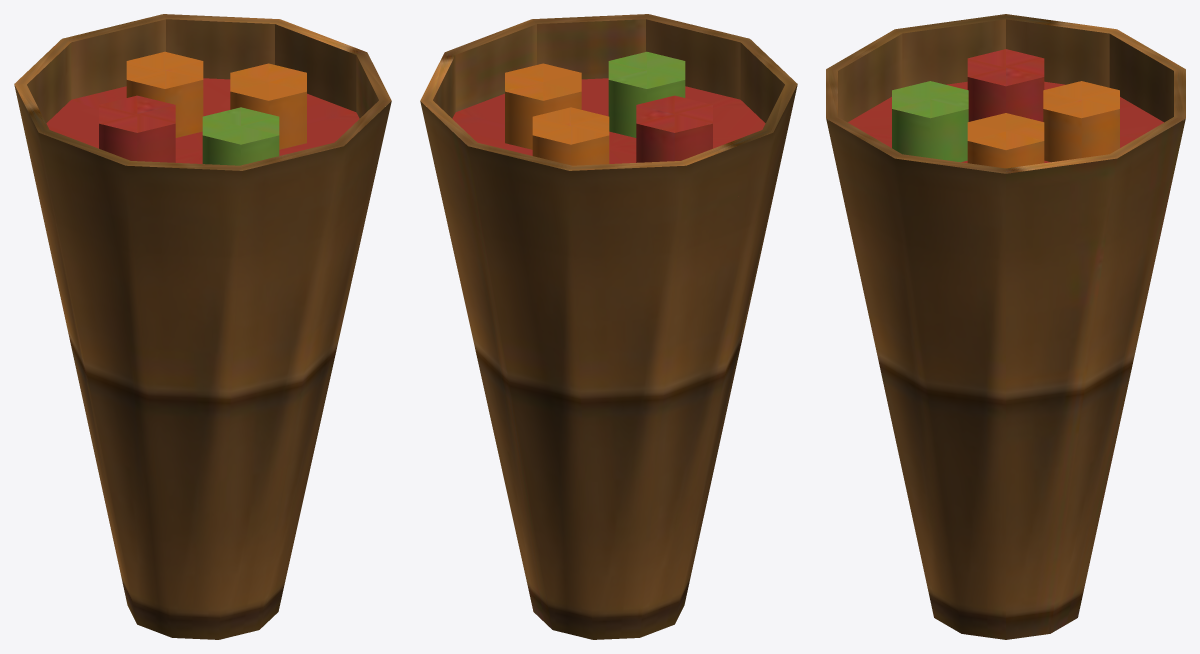
File: basket.glb
3 renders of one model, left to right at view 1: azimuth 30°, elevation 25°; view 2: azimuth 150°, elevation 25°; view 3: azimuth 270°, elevation 25°, orthographic.
Parts seen in each view (by area): view 1: props_0_0; view 2: props_0_0; view 3: props_0_0.
Boxes of the visible parts, x1,y1,x2,y2 form: props_0_0: [14, 14, 391, 639]; props_0_0: [420, 14, 797, 639]; props_0_0: [826, 14, 1185, 639].
Size of the model in its own units: 0.6 by 0.9 by 0.5706.
Materials: 1 (1 with a texture image).
